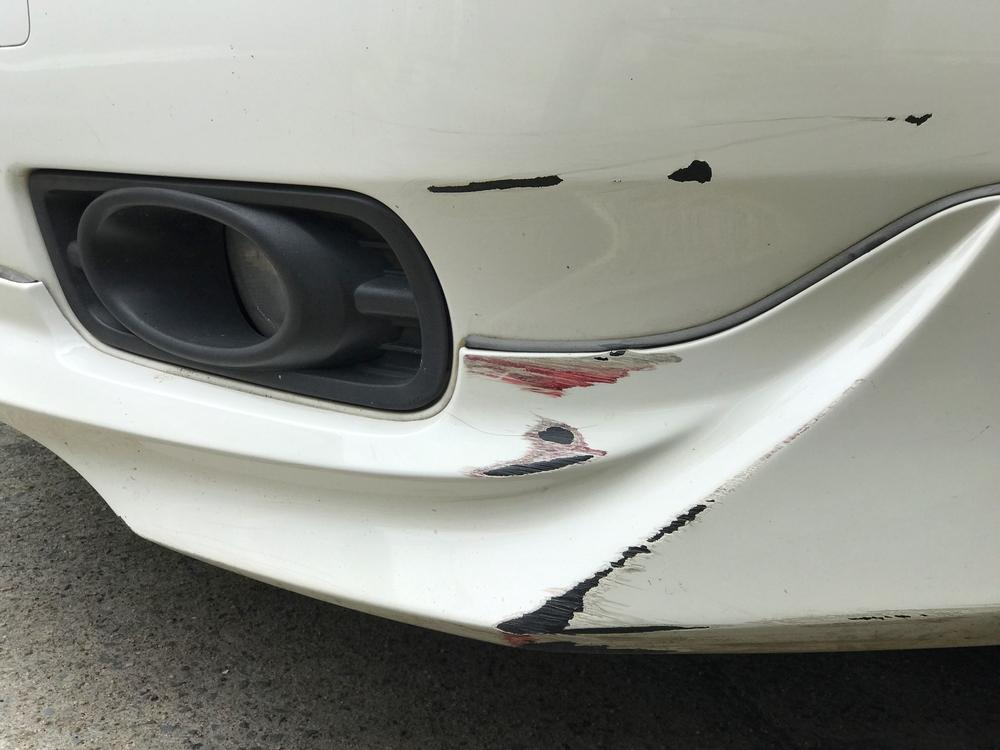scratch: (487, 374, 874, 655), (458, 349, 692, 482), (702, 108, 939, 131), (418, 169, 576, 203), (821, 605, 954, 627), (659, 155, 733, 190)
